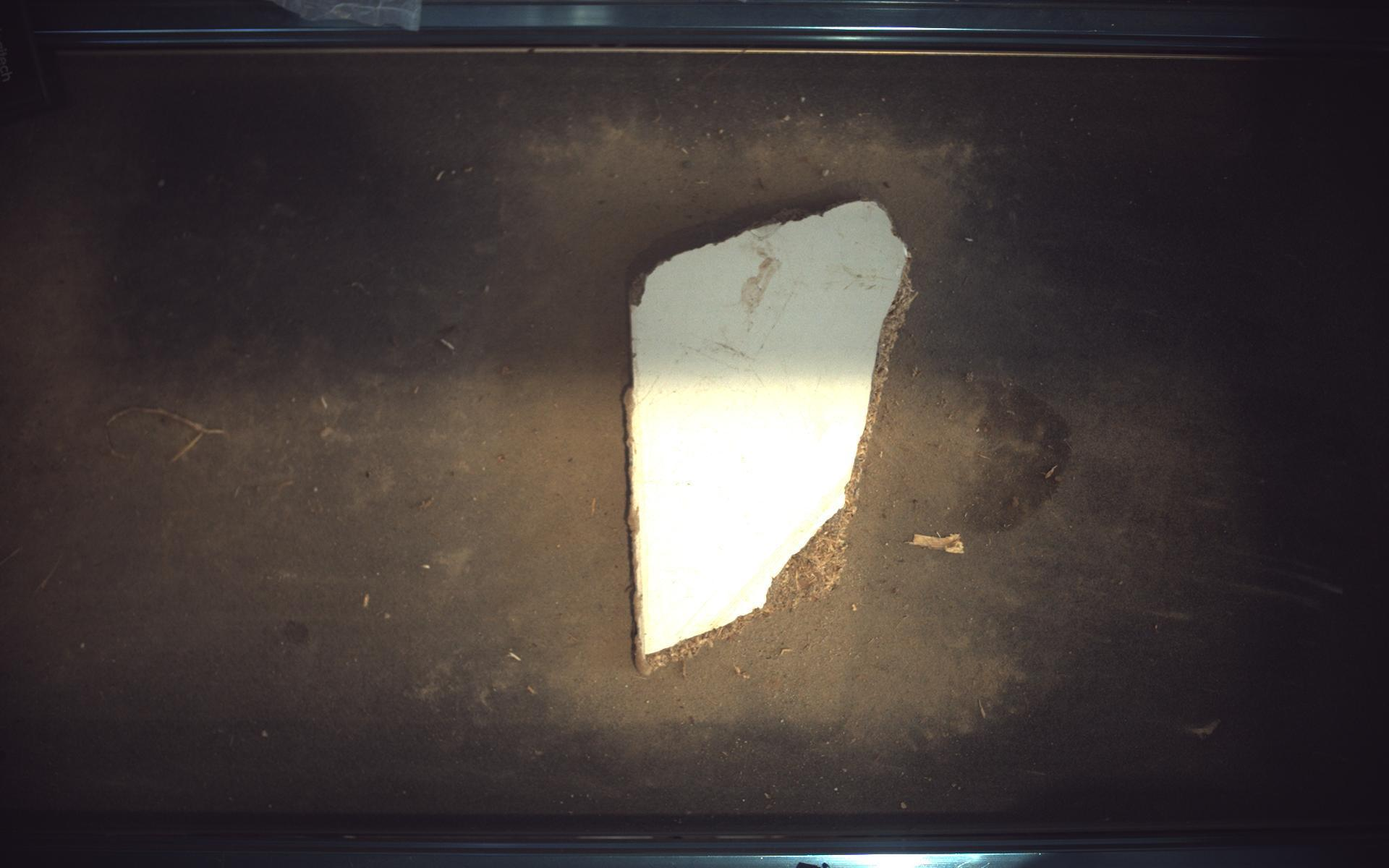wood: (626, 200, 915, 673)
